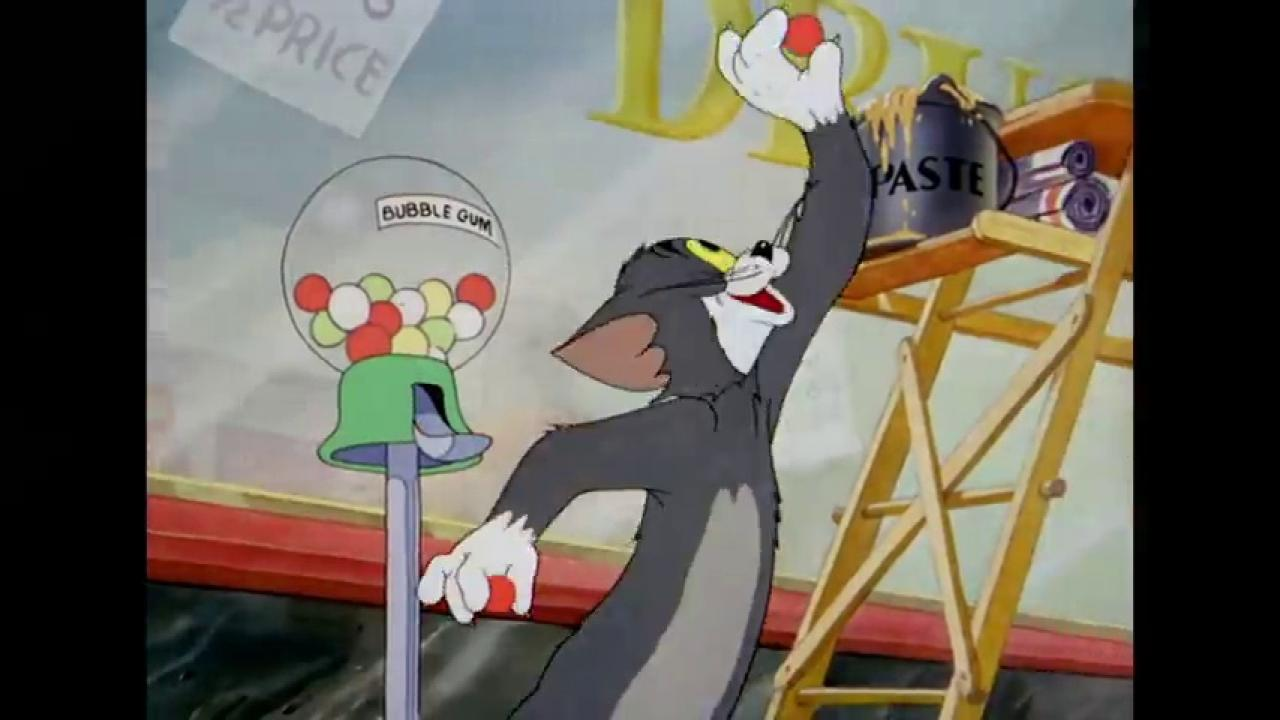Tom: (412, 4, 875, 720)
